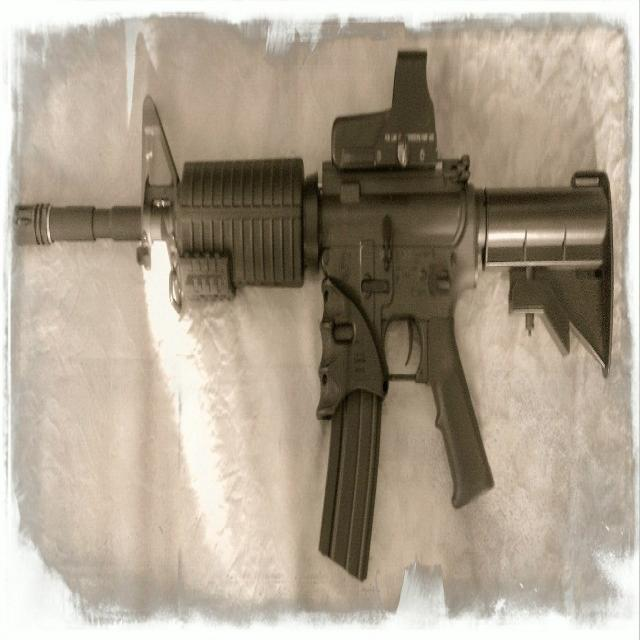firearm: (14, 48, 615, 586)
